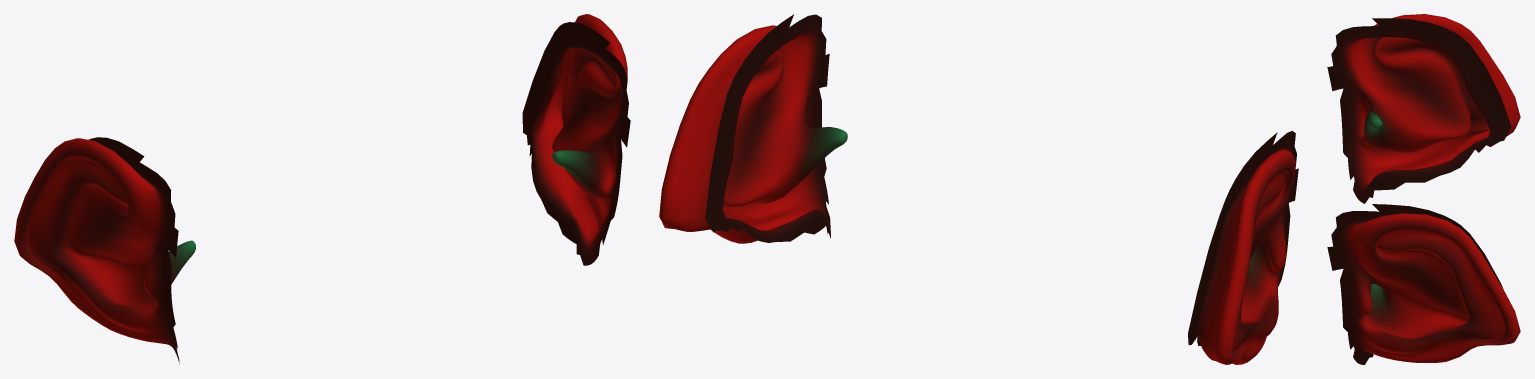
Rendered from oreilles05.dae.
The picture shows the model from 3 angles, left to right: view 1: azimuth 30°, elevation 25°; view 2: azimuth 150°, elevation 25°; view 3: azimuth 270°, elevation 25°; orthographic projection. The views are drawn at different scales.
Parts seen in each view (by area): view 1: Object001; view 2: Object001; view 3: Object001.
Boxes of the visible parts, box(x1,y1,x2,y2) form: Object001: box(14, 14, 630, 363); Object001: box(659, 14, 1298, 364); Object001: box(1327, 14, 1520, 364).
Bounding box in the file's own units: 17.93 × 6.67 × 6.6.
